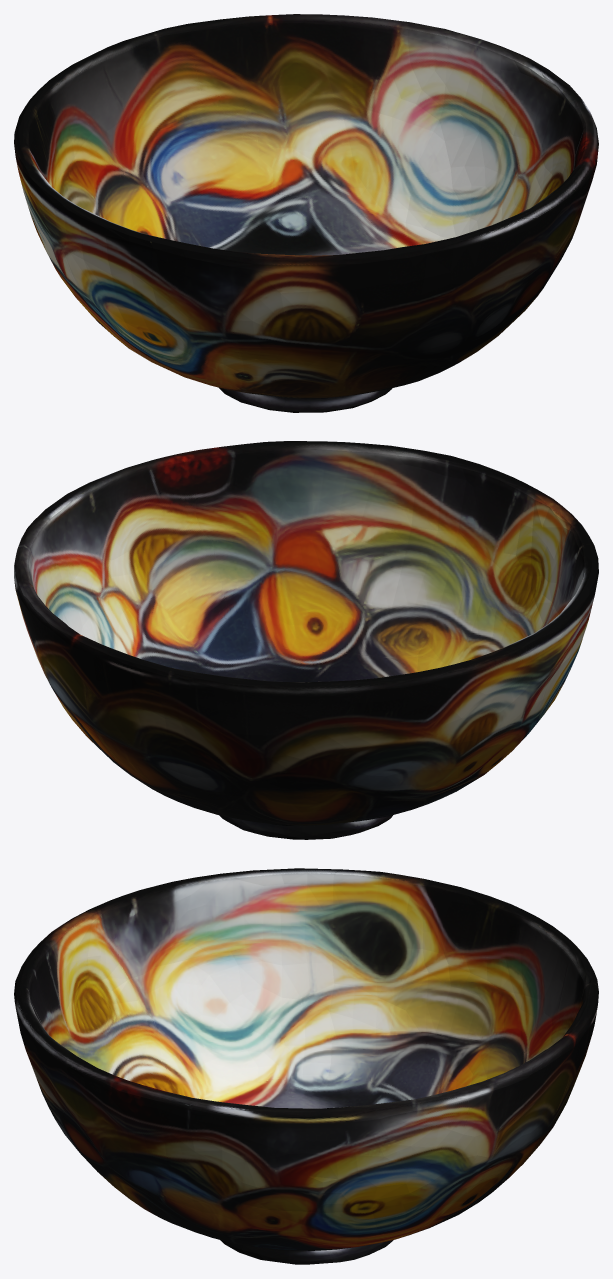
The model's file is ceramic-bowl-3d.jpeg.glb.
The picture shows the model from 3 angles, top to bottom: view 1: azimuth 30°, elevation 25°; view 2: azimuth 150°, elevation 25°; view 3: azimuth 270°, elevation 25°; orthographic projection.
Visible parts, largest first — view 1: world; view 2: world; view 3: world.
Part boxes in pixels (bbox=[...]): world: bbox=[14, 14, 598, 412]; world: bbox=[14, 441, 598, 839]; world: bbox=[14, 868, 598, 1264].
Bounding box in the file's own units: 0.9979 × 0.4502 × 1.
1 material, 1 textured.
